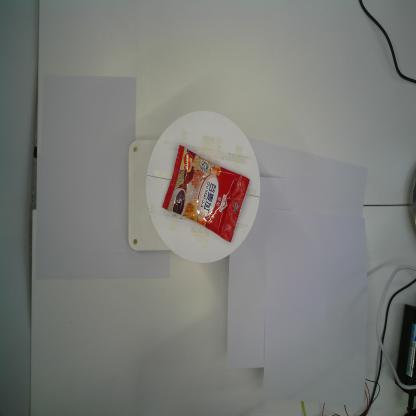Instant Drink: (161, 144, 250, 244)
